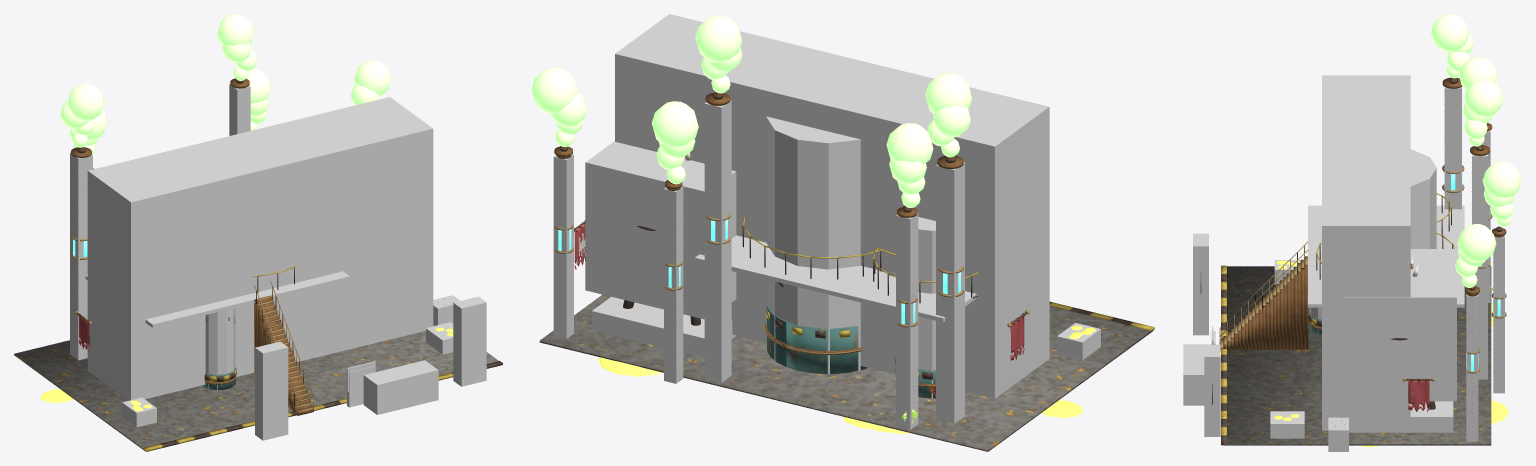
File: goo_refinery.glb
The picture shows the model from 3 angles, left to right: view 1: azimuth 30°, elevation 25°; view 2: azimuth 150°, elevation 25°; view 3: azimuth 270°, elevation 25°; orthographic projection. The views are drawn at different scales.
Visible parts, largest first — view 1: col_bld_goo_refinery_pipes, goo_refinery_body_a, goo_refinery_plain, col_bld_goo_refinery_stacks_0, col_bld_GX_skull_totem0_i, col_bld_GX_barricade0_i, col_bld_GX_skull_totem1_i, col_deck_goo_refinery_catwalk, col_bld_goo_refinery_vat_small, col_bld_goo_refinery_stacks_2, col_bld_GX_goo_barrels0_i, col_bld_GX_goo_barrels1_i (+3 smaller); view 2: col_bld_goo_refinery_pipes, goo_refinery_body_a, col_bld_goo_refinery_vat_main, goo_refinery_plain, col_bld_goo_refinery_skull_tank_0, col_bld_goo_refinery_stacks_2, col_bld_goo_refinery_stacks_0, col_deck_goo_refinery_catwalk, col_bld_goo_refinery_stacks_1, col_bld_goo_refinery_stacks_3, col_bld_goo_refinery_stacks_4, col_bld_goo_refinery_skull_tank_1 (+3 smaller); view 3: col_bld_goo_refinery_pipes, goo_refinery_body_a, col_bld_goo_refinery_skull_tank_0, goo_refinery_plain, col_deck_goo_refinery_catwalk, goo_refinery_body_b, col_bld_goo_refinery_vat_main, col_bld_goo_refinery_stacks_2, col_bld_goo_refinery_stacks_0, col_bld_goo_refinery_stacks_4, col_bld_goo_refinery_stacks_3, col_bld_GX_skull_totem0_i (+6 smaller).
Boxes of the visible parts, bbox=[...] form: col_bld_goo_refinery_pipes: bbox=[87, 97, 433, 400]; goo_refinery_body_a: bbox=[14, 147, 498, 451]; goo_refinery_plain: bbox=[40, 14, 453, 411]; col_bld_goo_refinery_stacks_0: bbox=[70, 152, 92, 360]; col_bld_GX_skull_totem0_i: bbox=[255, 341, 288, 440]; col_bld_GX_barricade0_i: bbox=[363, 360, 438, 414]; col_bld_GX_skull_totem1_i: bbox=[453, 296, 486, 386]; col_deck_goo_refinery_catwalk: bbox=[85, 271, 349, 327]; col_bld_goo_refinery_vat_small: bbox=[205, 307, 235, 390]; col_bld_goo_refinery_stacks_2: bbox=[229, 84, 250, 135]; col_bld_GX_goo_barrels0_i: bbox=[122, 397, 156, 427]; col_bld_GX_goo_barrels1_i: bbox=[426, 322, 453, 354]; col_bld_goo_refinery_pipes: bbox=[615, 14, 1049, 398]; goo_refinery_body_a: bbox=[539, 156, 1154, 451]; col_bld_goo_refinery_vat_main: bbox=[766, 116, 860, 373]; goo_refinery_plain: bbox=[531, 15, 1095, 433]; col_bld_goo_refinery_skull_tank_0: bbox=[585, 141, 736, 319]; col_bld_goo_refinery_stacks_2: bbox=[704, 100, 731, 382]; col_bld_goo_refinery_stacks_0: bbox=[936, 162, 964, 423]; col_deck_goo_refinery_catwalk: bbox=[695, 235, 976, 322]; col_bld_goo_refinery_stacks_1: bbox=[896, 213, 918, 429]; col_bld_goo_refinery_stacks_3: bbox=[664, 186, 683, 383]; col_bld_goo_refinery_stacks_4: bbox=[553, 154, 573, 338]; col_bld_goo_refinery_skull_tank_1: bbox=[592, 297, 735, 357]; col_bld_goo_refinery_pipes: bbox=[1322, 75, 1410, 430]; goo_refinery_body_a: bbox=[1200, 77, 1492, 443]; col_bld_goo_refinery_skull_tank_0: bbox=[1342, 249, 1456, 401]; goo_refinery_plain: bbox=[1274, 14, 1521, 446]; col_deck_goo_refinery_catwalk: bbox=[1308, 205, 1464, 307]; goo_refinery_body_b: bbox=[1212, 145, 1506, 445]; col_bld_goo_refinery_vat_main: bbox=[1410, 149, 1436, 248]; col_bld_goo_refinery_stacks_2: bbox=[1472, 154, 1487, 379]; col_bld_goo_refinery_stacks_0: bbox=[1444, 87, 1461, 209]; col_bld_goo_refinery_stacks_4: bbox=[1466, 294, 1478, 441]; col_bld_goo_refinery_stacks_3: bbox=[1493, 235, 1504, 393]; col_bld_GX_skull_totem0_i: bbox=[1193, 233, 1208, 335].
Bounding box in the file's own units: 24.14 × 17.31 × 17.7.
21 materials, 7 textured.
